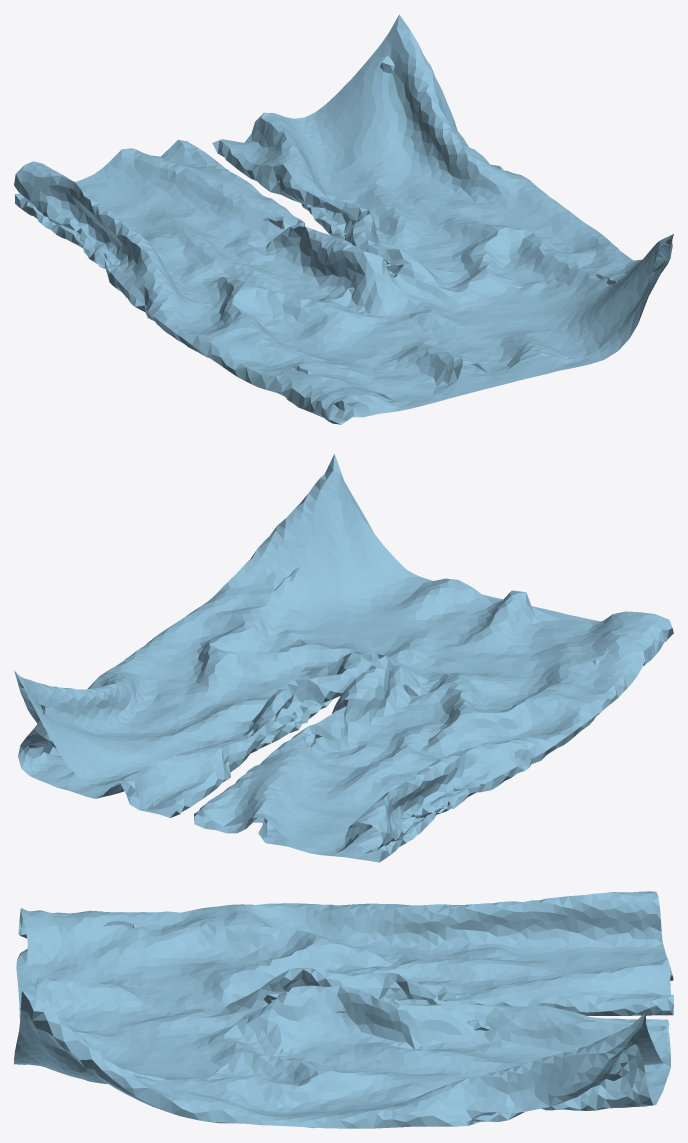
Rendered from frame_03.glb.
The picture shows the model from 3 angles, top to bottom: view 1: azimuth 30°, elevation 25°; view 2: azimuth 150°, elevation 25°; view 3: azimuth 270°, elevation 25°; orthographic projection. The views are drawn at different scales.
Visible parts, largest first — view 1: frame_03.obj; view 2: frame_03.obj; view 3: frame_03.obj.
Part boxes in pixels (<box>): frame_03.obj: <box>14,14,673,424</box>; frame_03.obj: <box>14,454,673,862</box>; frame_03.obj: <box>14,891,673,1128</box>.
Size of the model in its own units: 1.25 by 0.3185 by 1.61.
